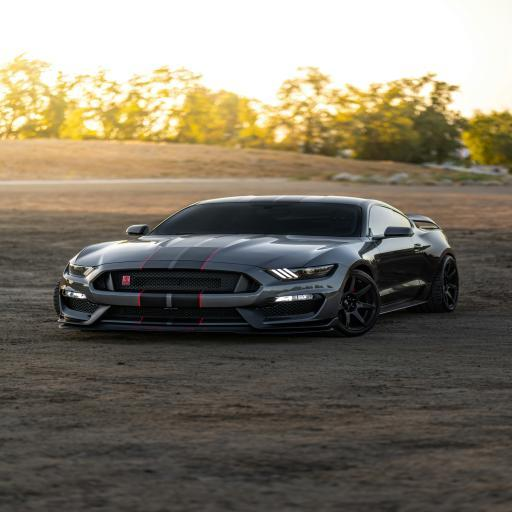car: (44, 168, 488, 352)
